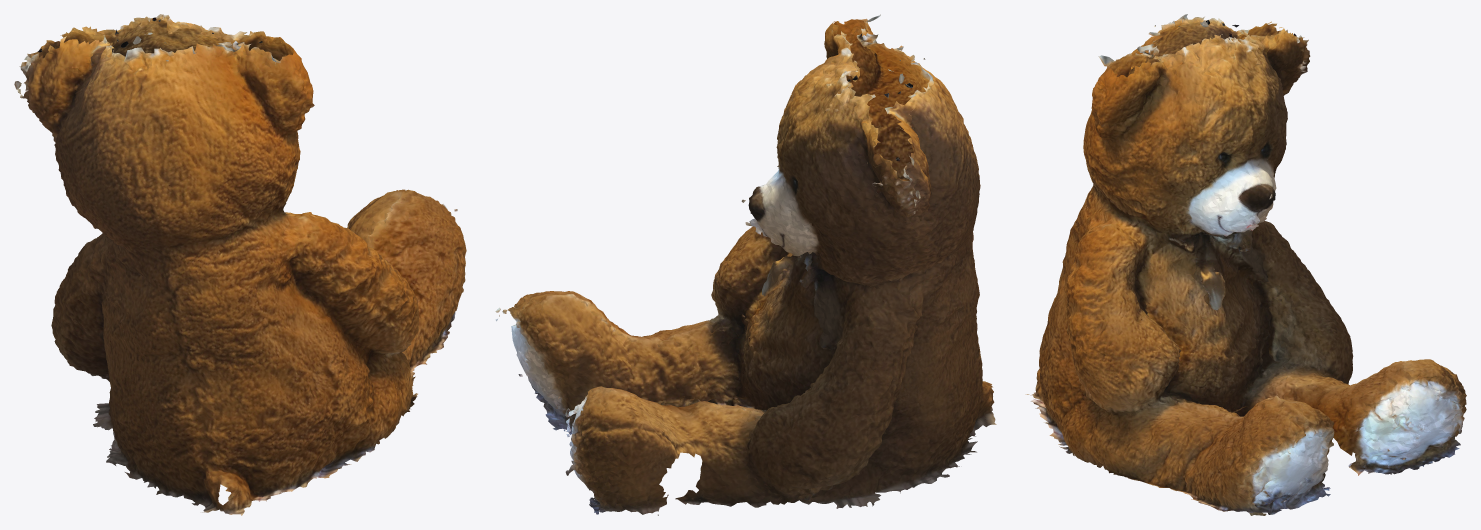
The model's file is obj_teddy_bear_459ce5.glb.
3 views of the same model, side by side, from view 1: azimuth 30°, elevation 25°; view 2: azimuth 150°, elevation 25°; view 3: azimuth 270°, elevation 25° (orthographic). The views are drawn at different scales.
Visible parts, largest first — view 1: obj_teddy_bear_459ce5; view 2: obj_teddy_bear_459ce5; view 3: obj_teddy_bear_459ce5.
Part boxes in pixels (<box>): obj_teddy_bear_459ce5: <box>14,14,466,515</box>; obj_teddy_bear_459ce5: <box>495,14,996,515</box>; obj_teddy_bear_459ce5: <box>1025,14,1466,515</box>.
Bounding box in the file's own units: 0.4365 × 0.4 × 0.4198.
1 material, 1 textured.
